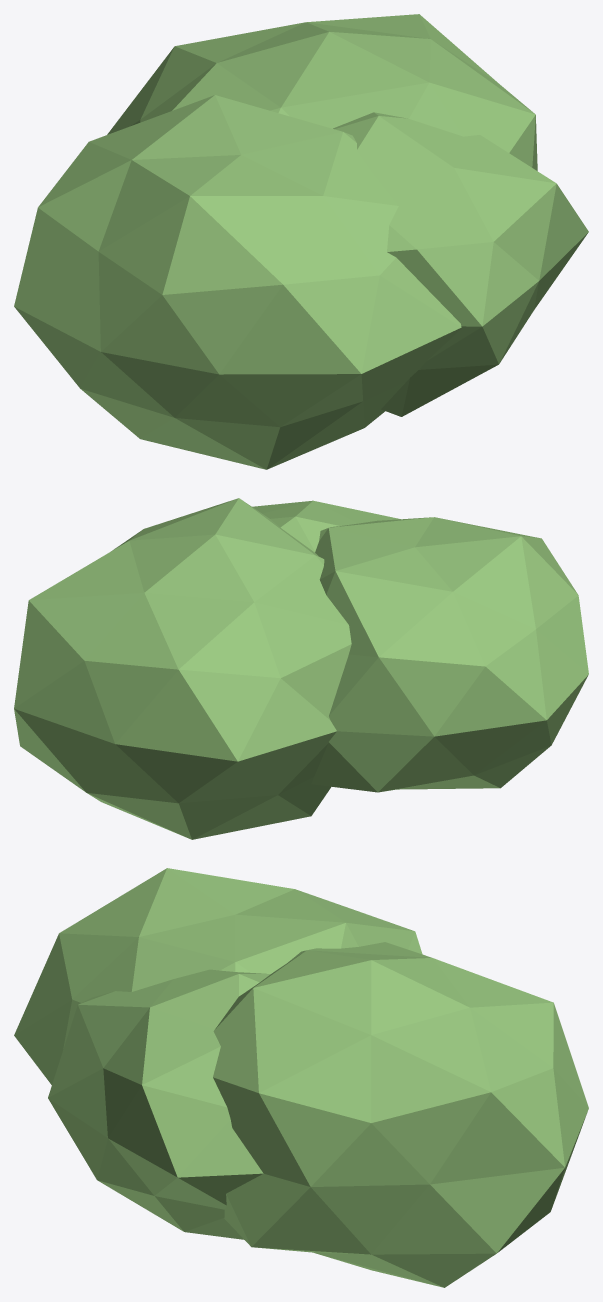
Rendered from bush.glb.
The picture shows the model from 3 angles, top to bottom: view 1: azimuth 30°, elevation 25°; view 2: azimuth 150°, elevation 25°; view 3: azimuth 270°, elevation 25°; orthographic projection. The views are drawn at different scales.
Visible parts, largest first — view 1: bush; view 2: bush; view 3: bush.
Boxes of the visible parts, left/top/right/bottom form: bush: left=14, top=14, right=588, bottom=469; bush: left=14, top=498, right=588, bottom=839; bush: left=14, top=868, right=588, bottom=1287.
Size of the model in its own units: 2.19 by 1.33 by 2.24.
